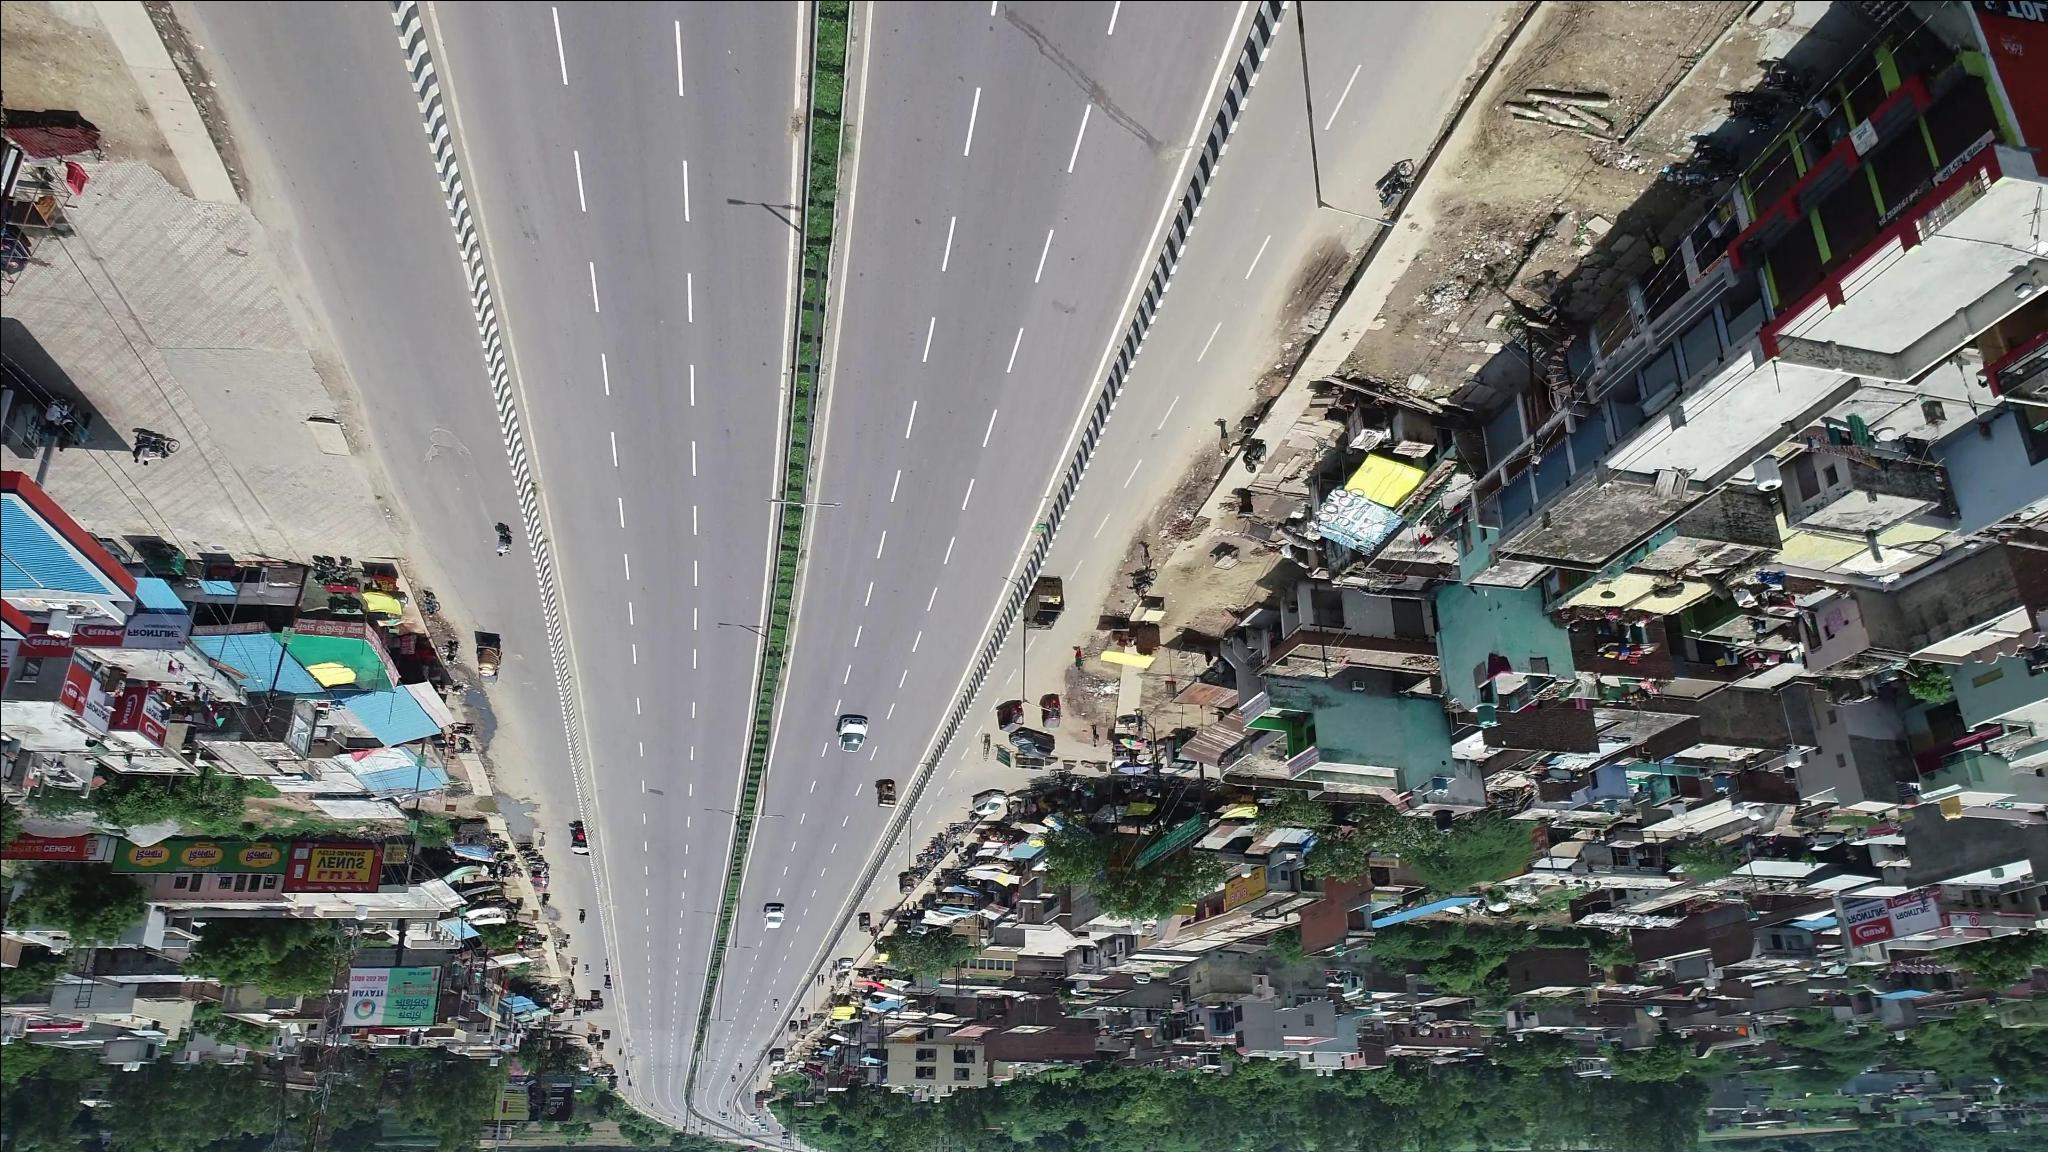Potholes: (999, 15, 1153, 143), (415, 423, 477, 473)
